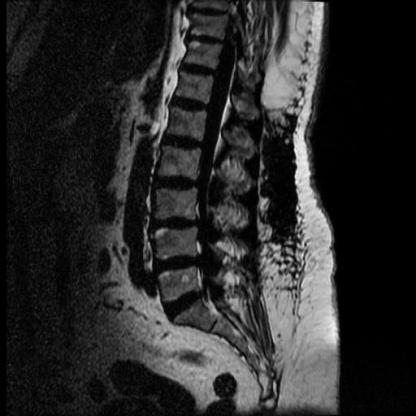Degenerative Disc Diseaserotation: (153, 256, 199, 275)
Disc Bulgerotation: (160, 292, 206, 316), (153, 255, 199, 275), (163, 134, 204, 154), (152, 217, 200, 233), (153, 176, 199, 192)
